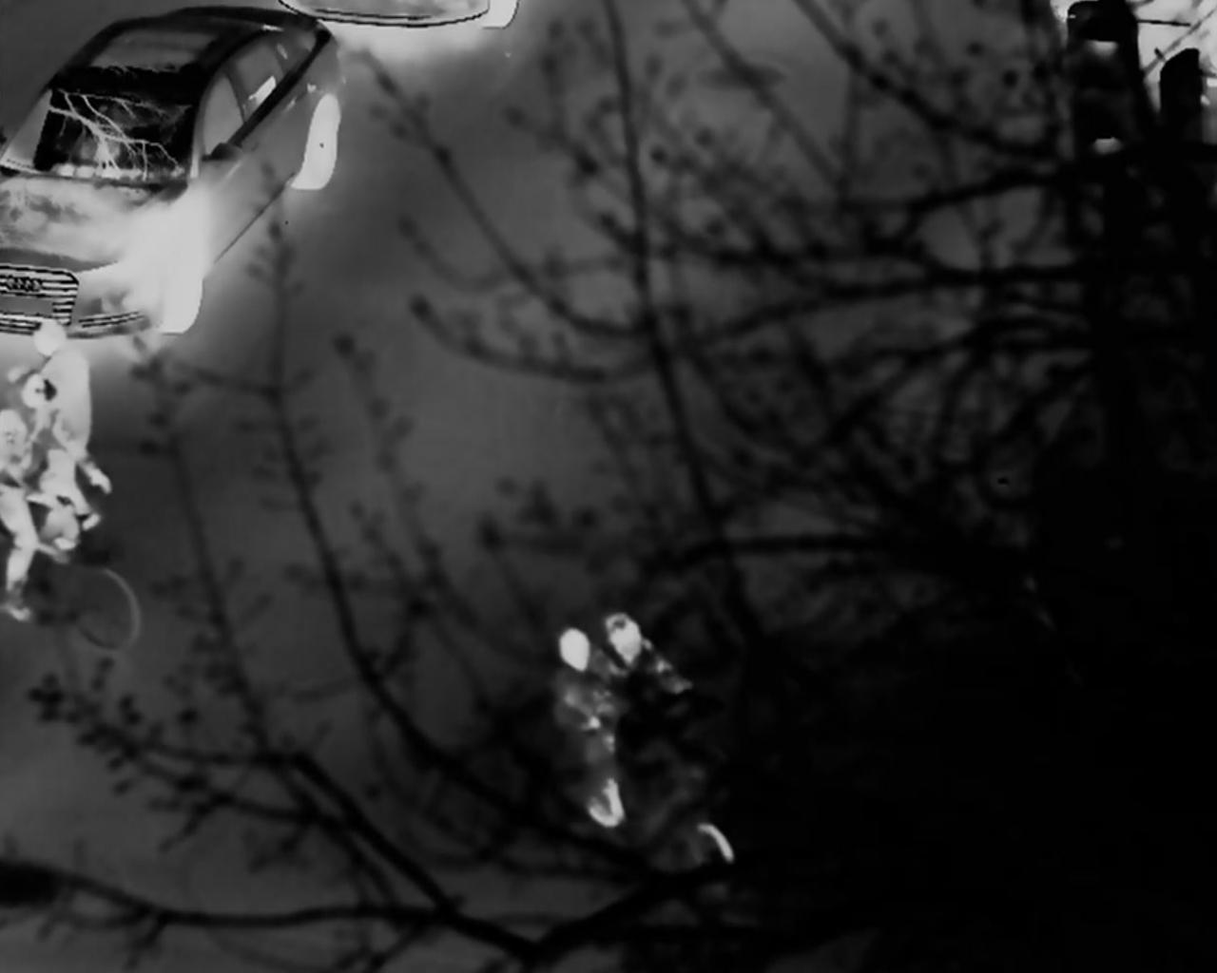person: (31, 312, 123, 549), (8, 368, 77, 623), (583, 618, 674, 811), (545, 628, 616, 797)
